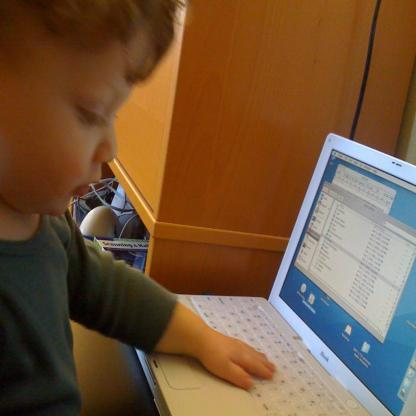board: (152, 130, 398, 413)
